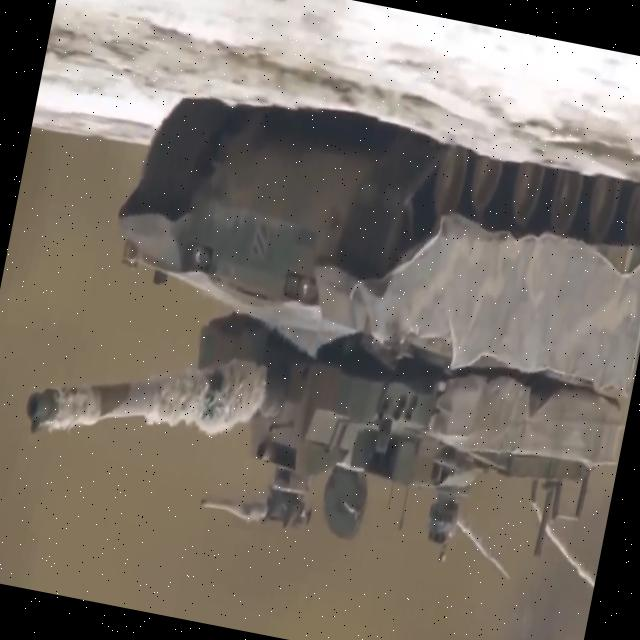korea tank: (8, 64, 640, 596)
